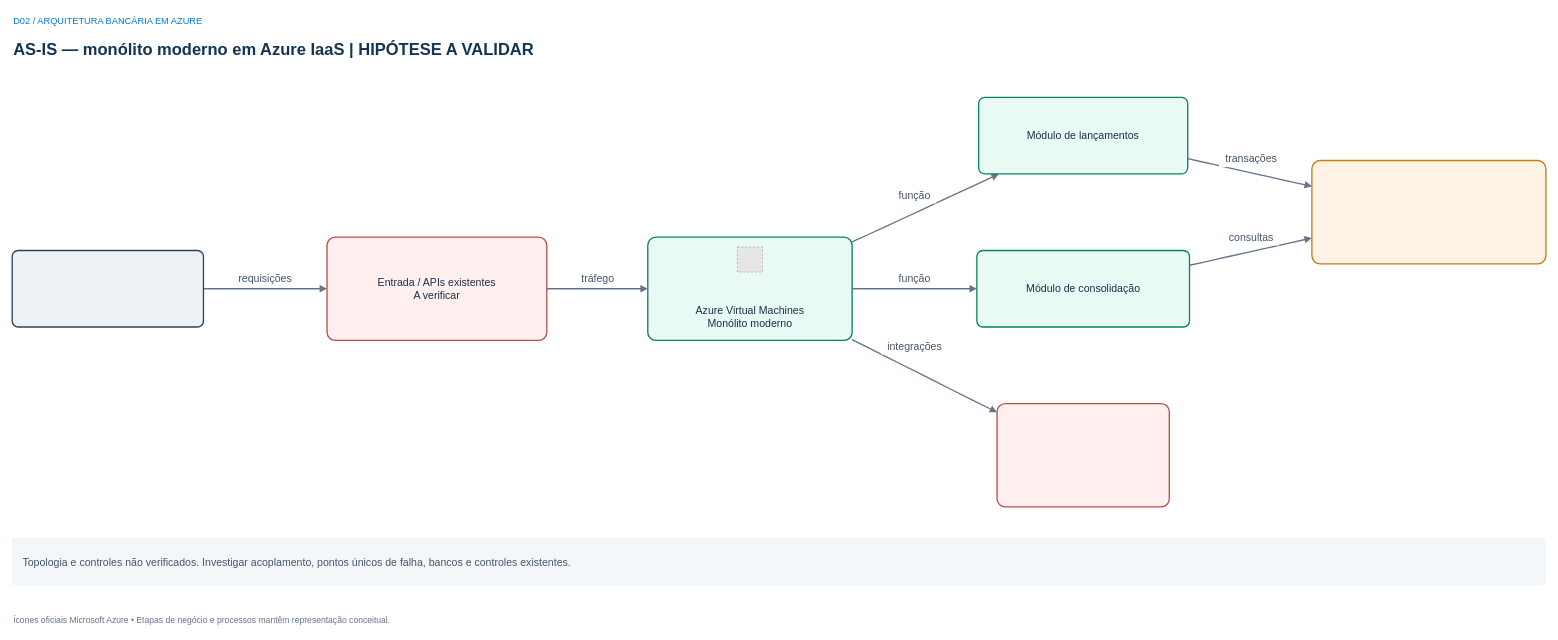
Image size: 1558x640. Some labels were removed from this diagram. Grey dashed boxes stand in for pictures. The shapes that lost their labels are listed below. From the top down, each one's box as (x1, y1, x2, y2) in pixels, then its label:
(1311, 160, 1546, 264): Banco relacional legado SQL Server / Oracle / Db2?
(11, 249, 204, 327): Comerciante / canais
(996, 403, 1170, 507): Integrações e jobs A inventariar
